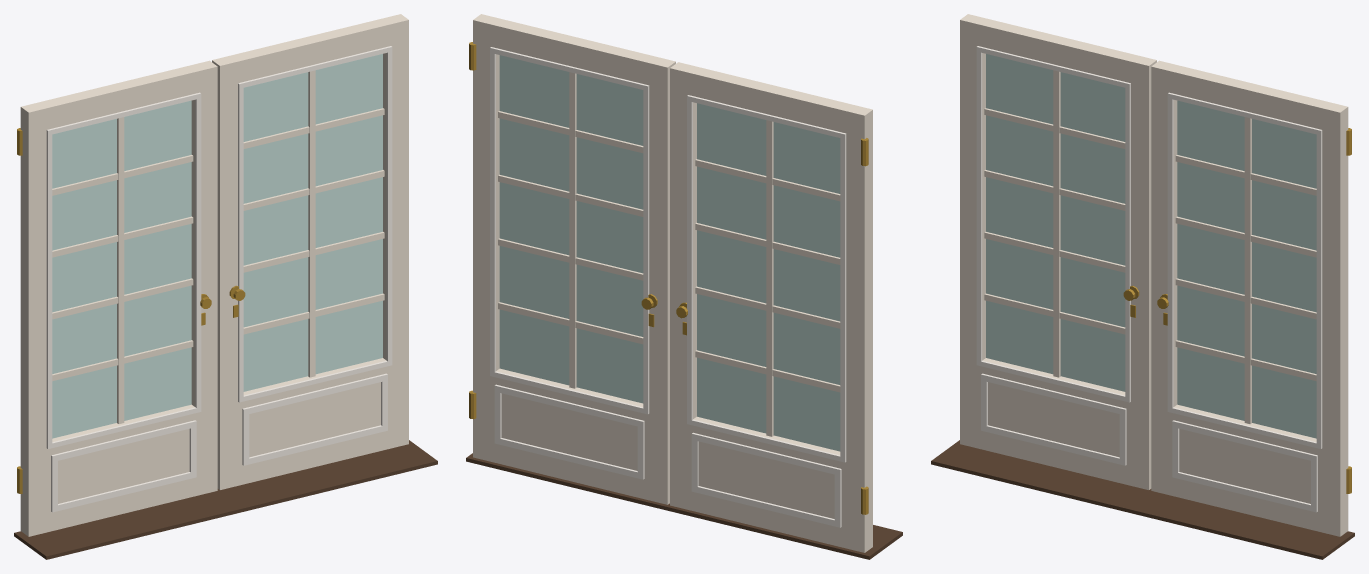
File: CatCafe_Door_PanedGlass_Front.glb
The picture shows the model from 3 angles, left to right: view 1: azimuth 30°, elevation 25°; view 2: azimuth 150°, elevation 25°; view 3: azimuth 330°, elevation 25°; orthographic projection. The views are drawn at different scales.
Parts seen in each view (by area): view 1: CatCafe_Door_PanedGlass_Front_LeafR, CatCafe_Door_PanedGlass_Front_LeafL, CatCafe_Door_PanedGlass_Front_LeafL_Glass, CatCafe_Door_PanedGlass_Front_LeafR_Glass, CatCafe_Door_PanedGlass_Front; view 2: CatCafe_Door_PanedGlass_Front_LeafR, CatCafe_Door_PanedGlass_Front_LeafL, CatCafe_Door_PanedGlass_Front_LeafL_Glass, CatCafe_Door_PanedGlass_Front_LeafR_Glass, CatCafe_Door_PanedGlass_Front; view 3: CatCafe_Door_PanedGlass_Front_LeafL, CatCafe_Door_PanedGlass_Front_LeafR, CatCafe_Door_PanedGlass_Front_LeafR_Glass, CatCafe_Door_PanedGlass_Front_LeafL_Glass, CatCafe_Door_PanedGlass_Front.
Part boxes in pixels (x1,y1,x2,y2): CatCafe_Door_PanedGlass_Front_LeafR: [17, 60, 217, 536]; CatCafe_Door_PanedGlass_Front_LeafL: [212, 14, 408, 489]; CatCafe_Door_PanedGlass_Front_LeafL_Glass: [243, 54, 382, 391]; CatCafe_Door_PanedGlass_Front_LeafR_Glass: [52, 100, 191, 438]; CatCafe_Door_PanedGlass_Front: [14, 440, 437, 559]; CatCafe_Door_PanedGlass_Front_LeafR: [670, 62, 872, 552]; CatCafe_Door_PanedGlass_Front_LeafL: [469, 14, 675, 504]; CatCafe_Door_PanedGlass_Front_LeafL_Glass: [499, 55, 643, 403]; CatCafe_Door_PanedGlass_Front_LeafR_Glass: [697, 103, 840, 451]; CatCafe_Door_PanedGlass_Front: [466, 453, 902, 559]; CatCafe_Door_PanedGlass_Front_LeafL: [1151, 60, 1351, 536]; CatCafe_Door_PanedGlass_Front_LeafR: [960, 14, 1156, 489]; CatCafe_Door_PanedGlass_Front_LeafR_Glass: [986, 54, 1125, 391]; CatCafe_Door_PanedGlass_Front_LeafL_Glass: [1177, 100, 1316, 438]; CatCafe_Door_PanedGlass_Front: [931, 440, 1354, 559].
Size of the model in its own units: 7 by 7.33 by 1.12.
1 material, 1 textured.
